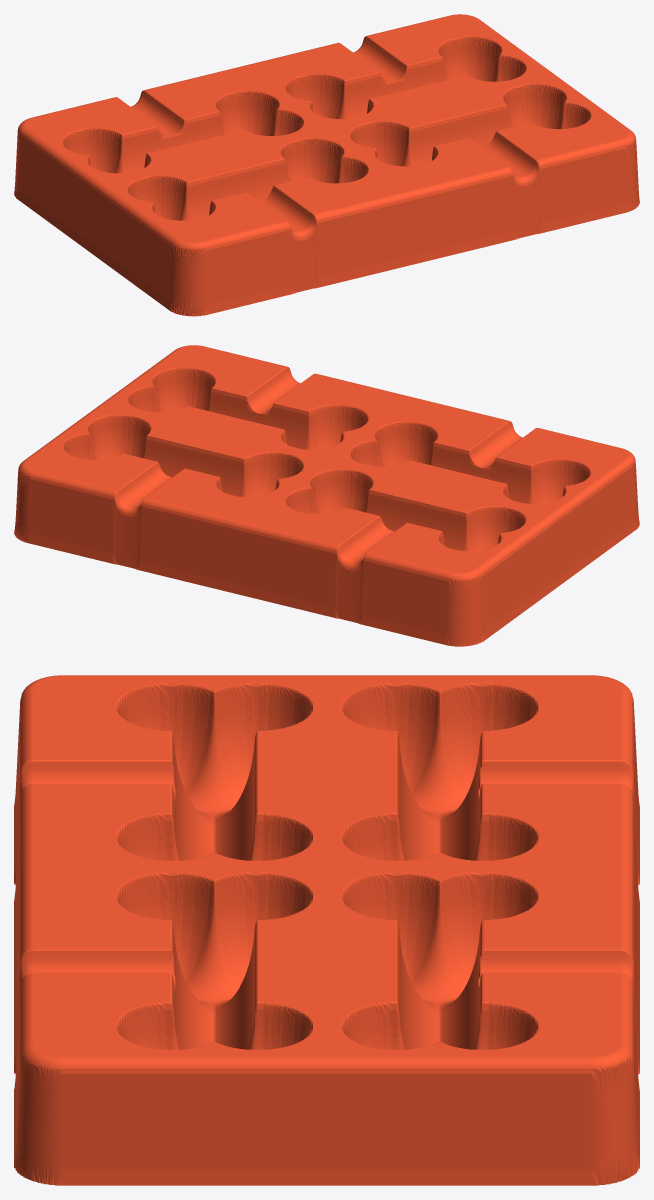
Rendered from mold.glb.
3 renders of one model, top to bottom at view 1: azimuth 30°, elevation 25°; view 2: azimuth 150°, elevation 25°; view 3: azimuth 270°, elevation 25°, orthographic. The views are drawn at different scales.
Parts seen in each view (by area): view 1: geometry_0; view 2: geometry_0; view 3: geometry_0.
Part boxes in pixels (box(x1,y1,x2,y2)): geometry_0: box(14, 14, 639, 316); geometry_0: box(14, 345, 639, 646); geometry_0: box(14, 675, 639, 1185).
Bounding box in the file's own units: 0.1726 × 0.0245 × 0.1151.
